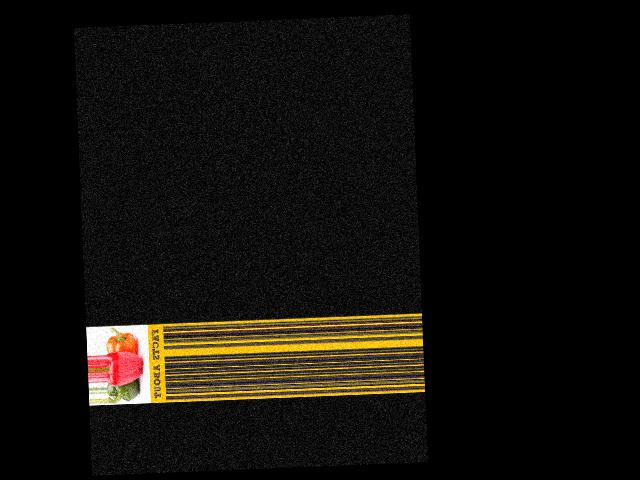bell_pepper: (108, 382, 145, 403)
